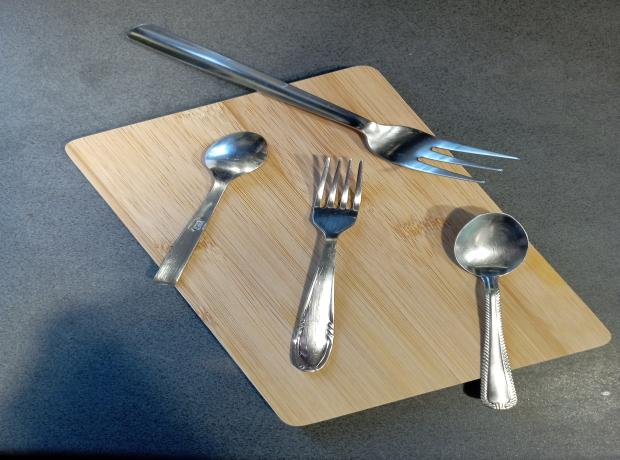metal: (125, 22, 522, 185), (151, 131, 274, 287), (288, 156, 370, 373), (451, 212, 533, 410)
